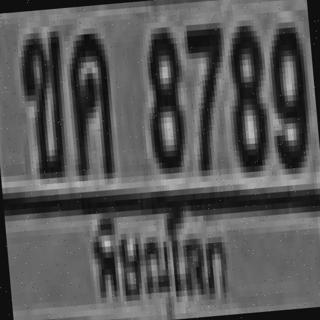A02: (16, 25, 70, 174)
A04: (64, 30, 115, 173)
N07: (182, 17, 232, 171)
N08: (138, 23, 187, 166), (222, 19, 268, 168)
N09: (264, 18, 310, 167)
P46: (81, 199, 232, 314)
